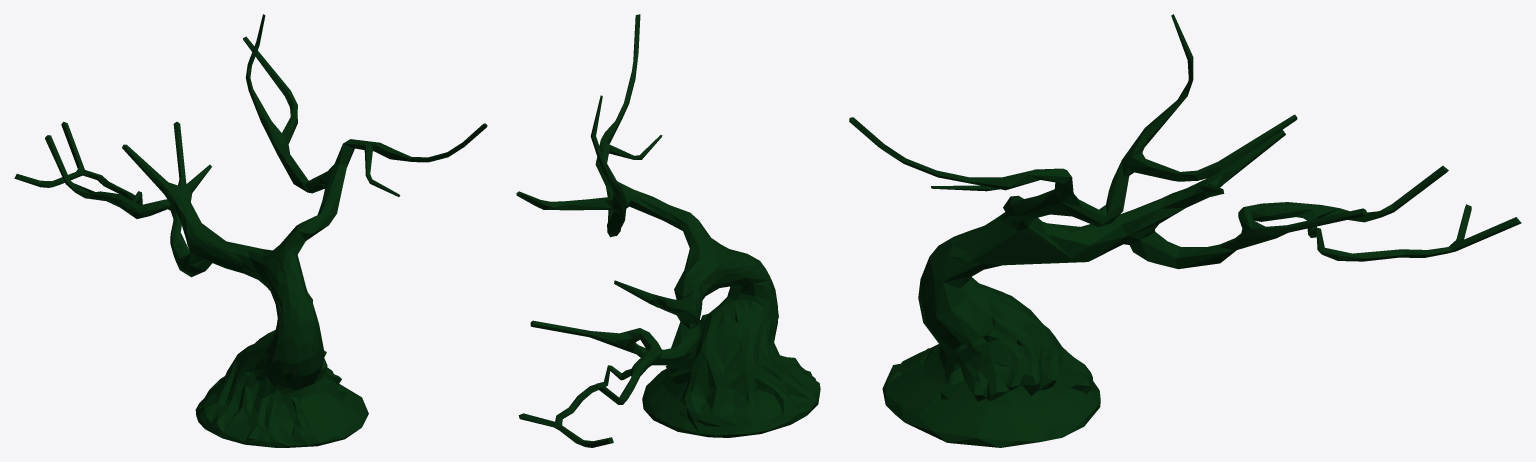
The model's file is bonsai-tree-low-poly-ef06cc.glb.
The picture shows the model from 3 angles, left to right: view 1: azimuth 30°, elevation 25°; view 2: azimuth 150°, elevation 25°; view 3: azimuth 270°, elevation 25°; orthographic projection. The views are drawn at different scales.
Visible parts, largest first — view 1: PropMesh; view 2: PropMesh; view 3: PropMesh.
Boxes of the visible parts, x1=… form: PropMesh: x1=14, y1=14, x2=487, y2=447; PropMesh: x1=516, y1=14, x2=820, y2=447; PropMesh: x1=849, y1=14, x2=1521, y2=447.
Bounding box in the file's own units: 0.3097 × 0.45 × 0.6406.
